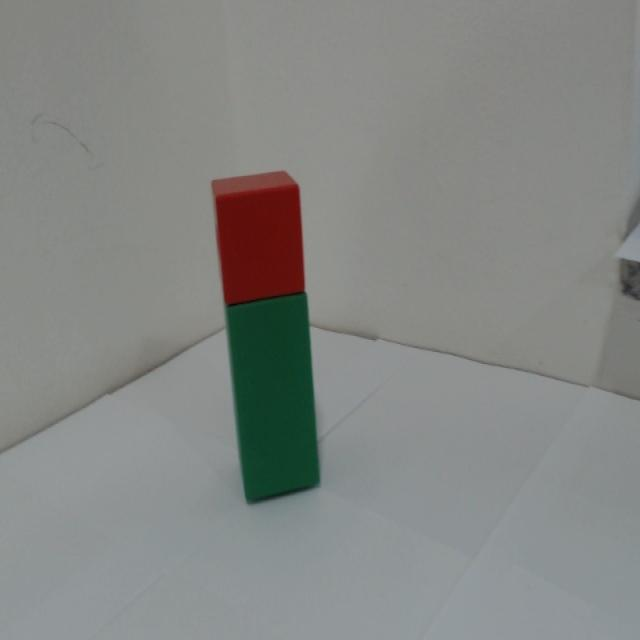cube: (173, 160, 332, 293)
